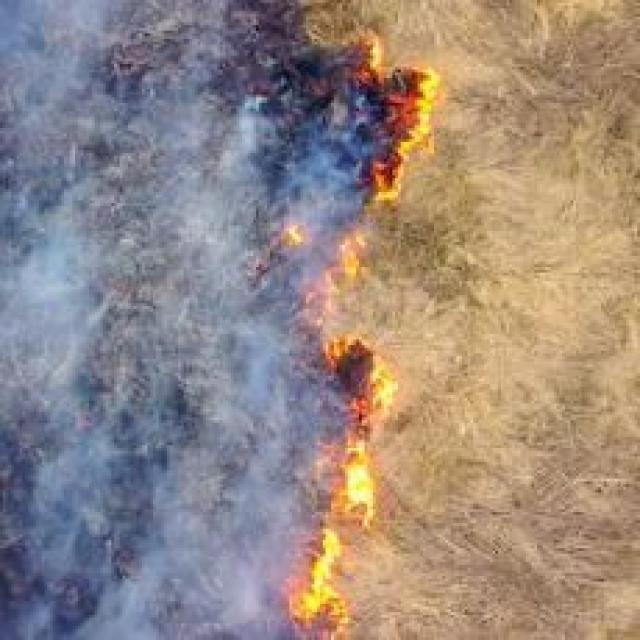Fire: (286, 24, 454, 636)
Smoke: (11, 26, 295, 605)
